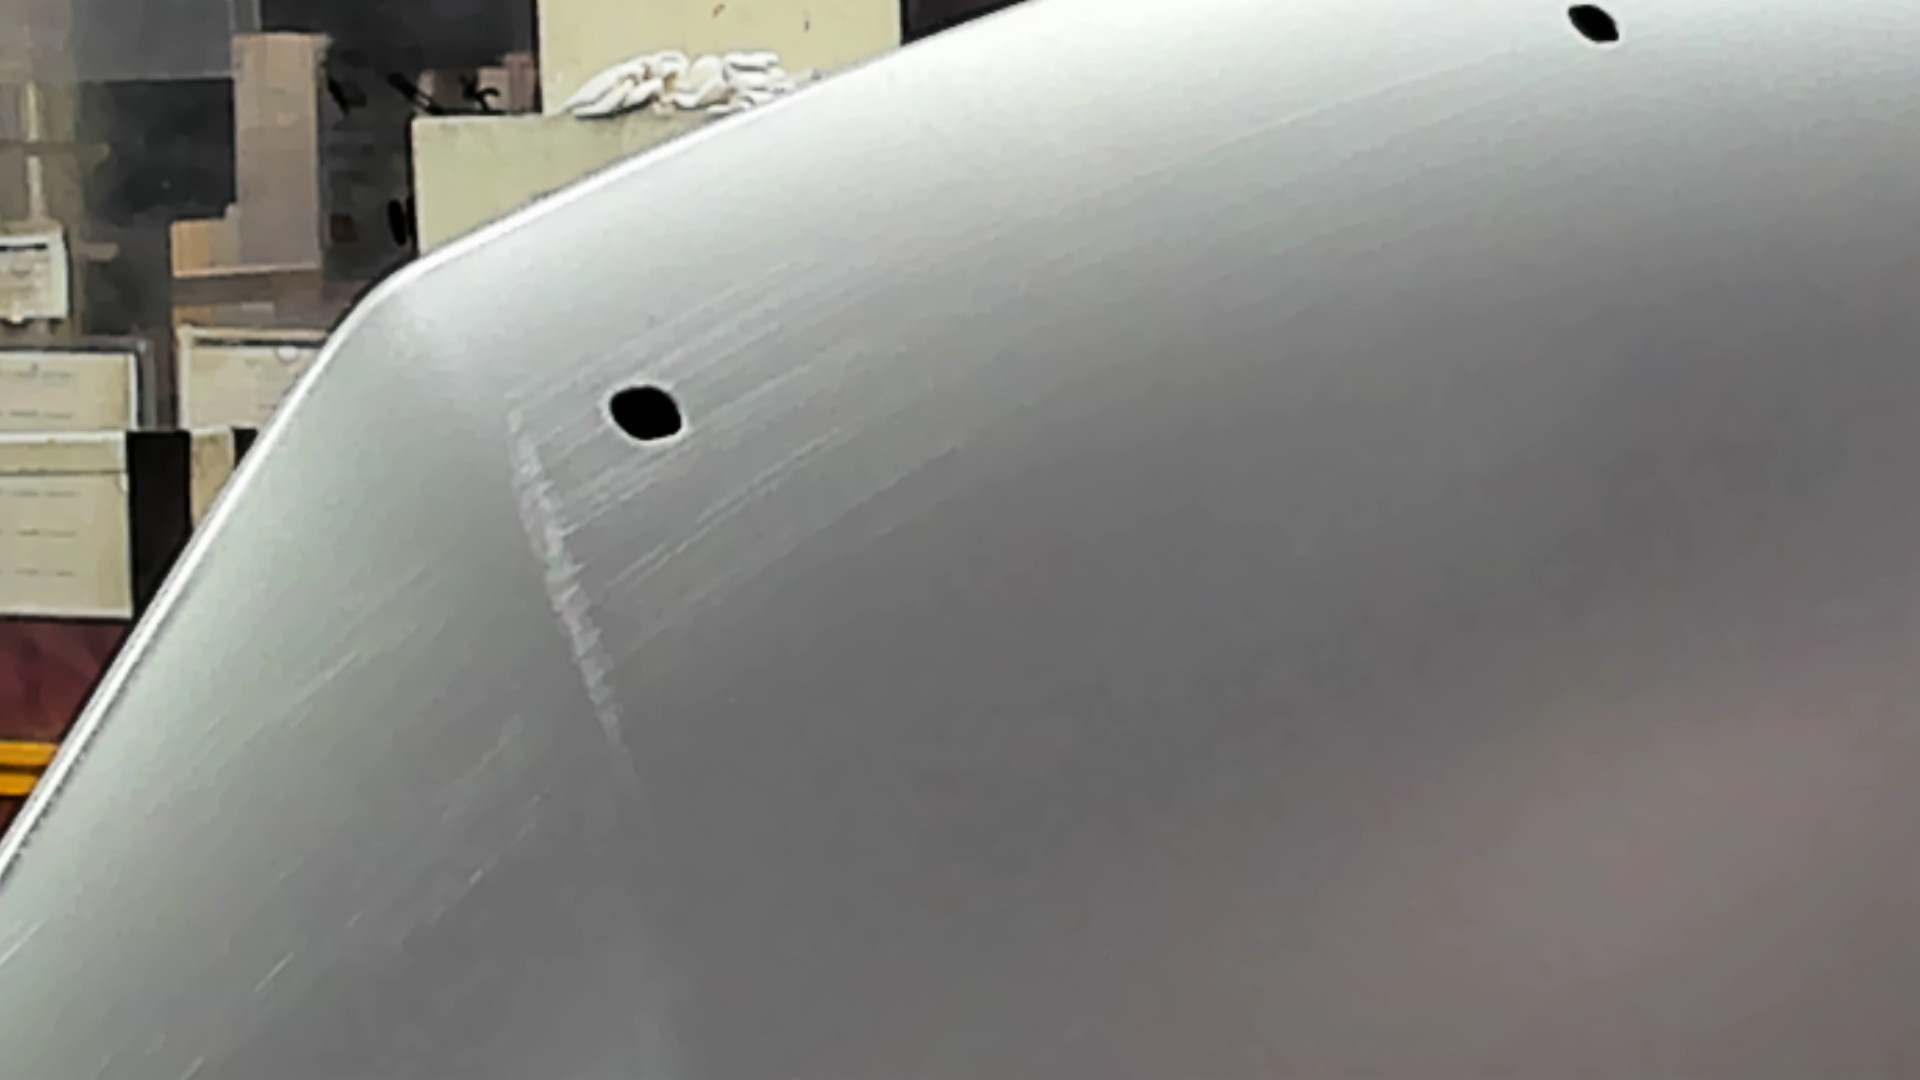amorfo: (591, 376, 698, 448), (1561, 1, 1633, 53)
capo: (855, 128, 1920, 1080)
